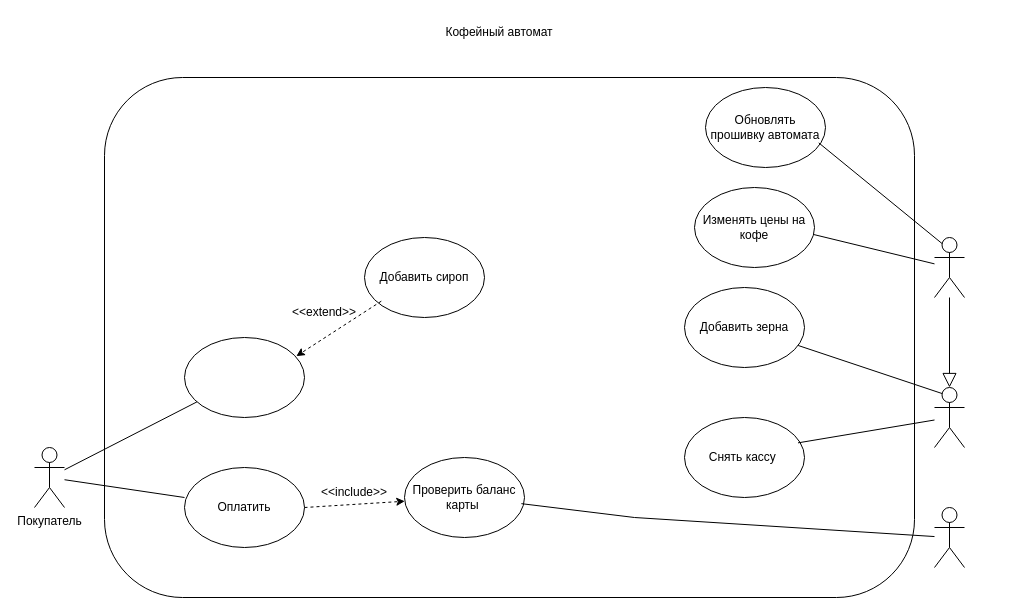
Some shapes in this 1028 by 615 pixel diagram are drawn without their labels. The centre of each missing label's shape, as x and y in pixels:
"Банковский сервер" goes at point 949,537.
"Выбрать напиток" goes at point 244,377.
"Супер Администратор" goes at point 949,267.
"Техник" goes at point 949,417.
